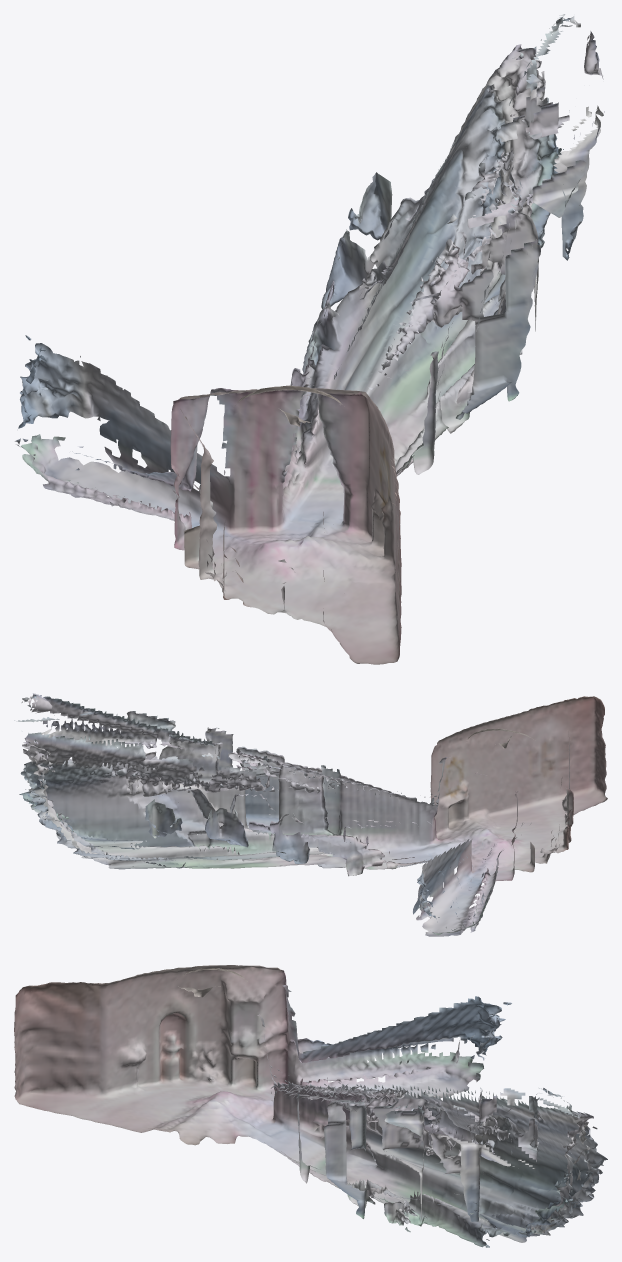
File: angelic-quartz-chamber-1-1-pano_collider.glb
3 renders of one model, top to bottom at view 1: azimuth 30°, elevation 25°; view 2: azimuth 150°, elevation 25°; view 3: azimuth 270°, elevation 25°, orthographic. The views are drawn at different scales.
Parts seen in each view (by area): view 1: world; view 2: world; view 3: world.
Boxes of the visible parts, x1,y1,x2,y2 form: world: (15, 14, 604, 664); world: (14, 693, 607, 936); world: (14, 965, 607, 1247).
Bounding box in the file's own units: 20.71 × 8.59 × 21.97.
